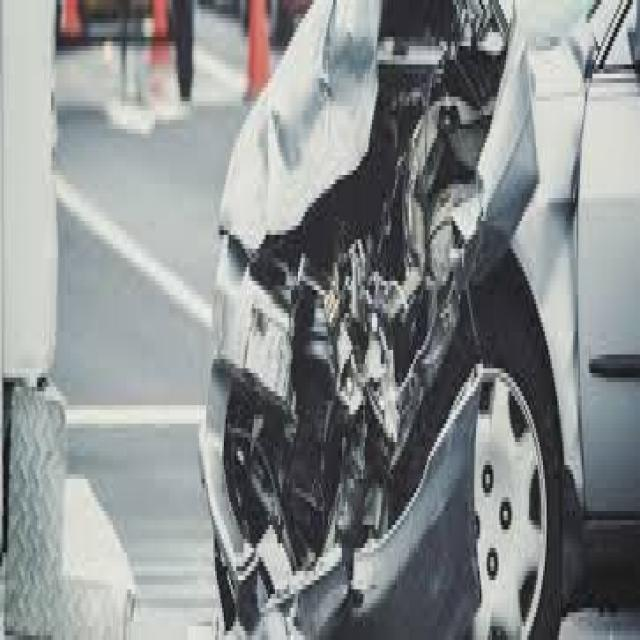severe: (196, 5, 521, 640)
